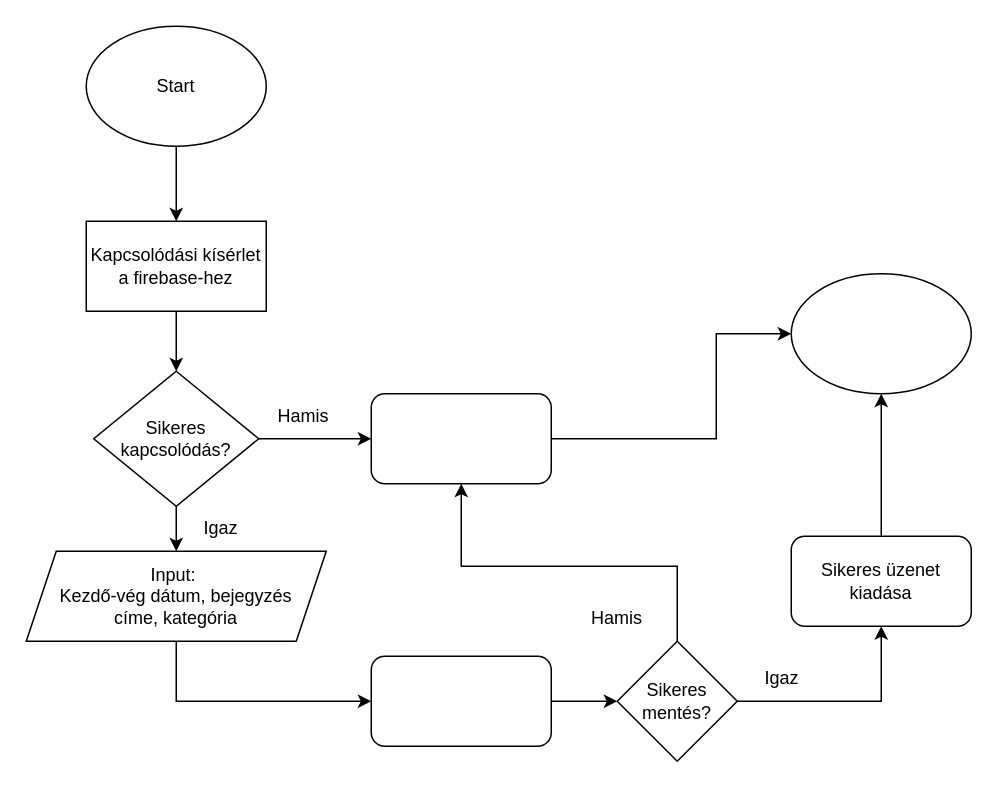
This 998x788 diagram has some shape labels left out. The shapes that lost their labels are listed below. From the top down, each one's centre as x and y in pixels, then its label:
At point 880,333: "End".
At point 460,438: "Hibaüzenet kiadása".
At point 460,700: "Bejegyzés adatbázisba történő mentése".
